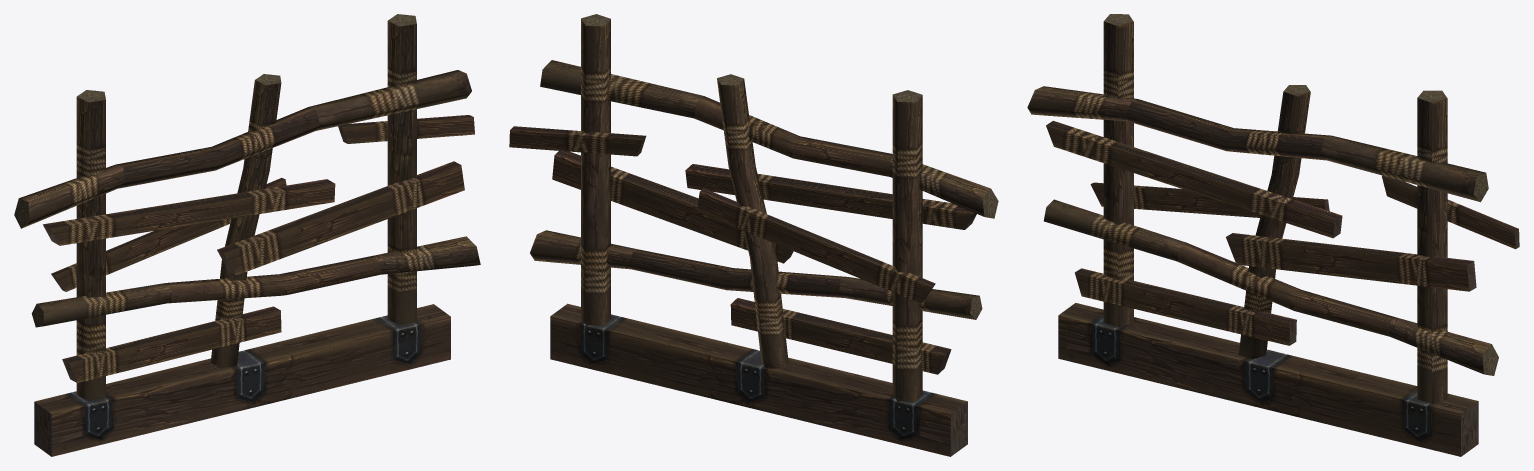
The model's file is A_zudangmen01.fbx.
The picture shows the model from 3 angles, left to right: view 1: azimuth 30°, elevation 25°; view 2: azimuth 150°, elevation 25°; view 3: azimuth 330°, elevation 25°; orthographic projection.
Parts seen in each view (by area): view 1: A_zudangmen01; view 2: A_zudangmen01; view 3: A_zudangmen01.
Boxes of the visible parts, x1,y1,x2,y2 form: A_zudangmen01: [14, 14, 480, 456]; A_zudangmen01: [509, 14, 998, 456]; A_zudangmen01: [1027, 14, 1519, 456].
Size of the model in its own units: 3.98 by 2.78 by 0.3829.
